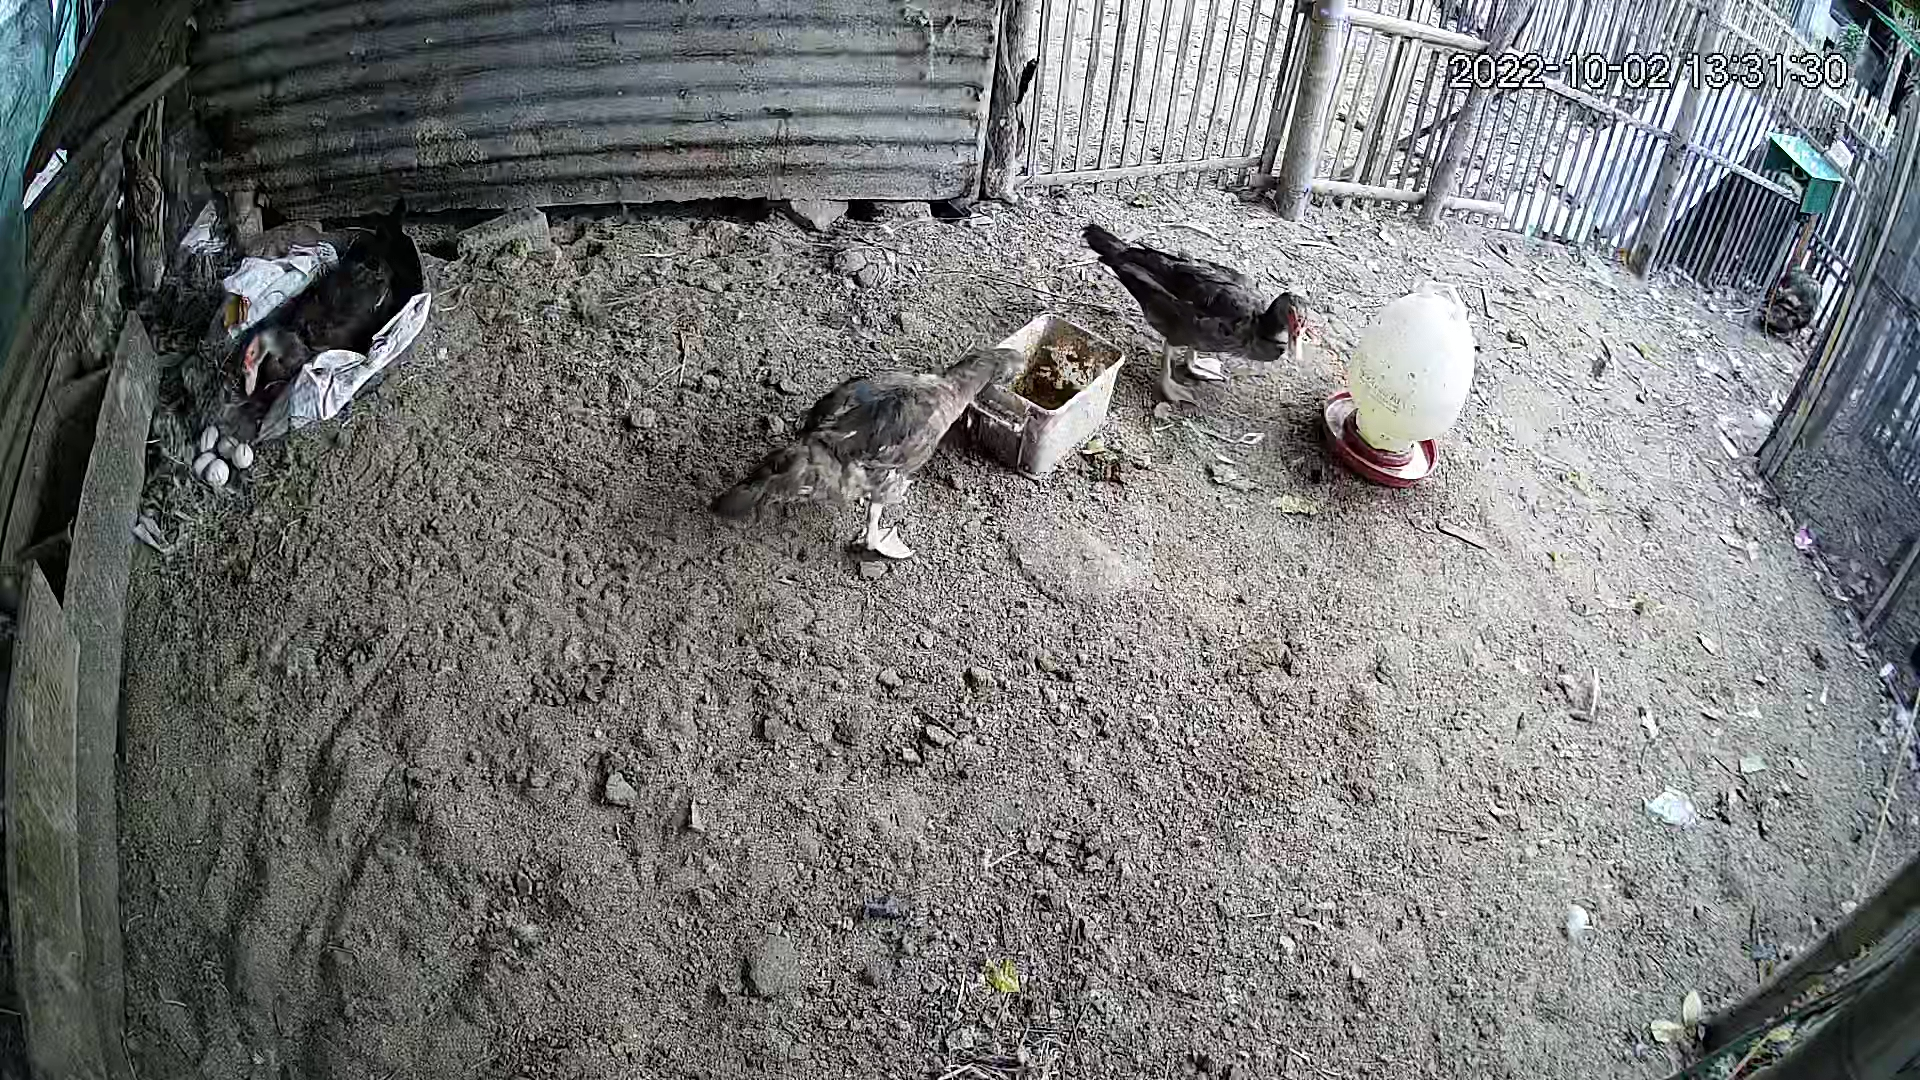Mengeram: (171, 212, 421, 491)
